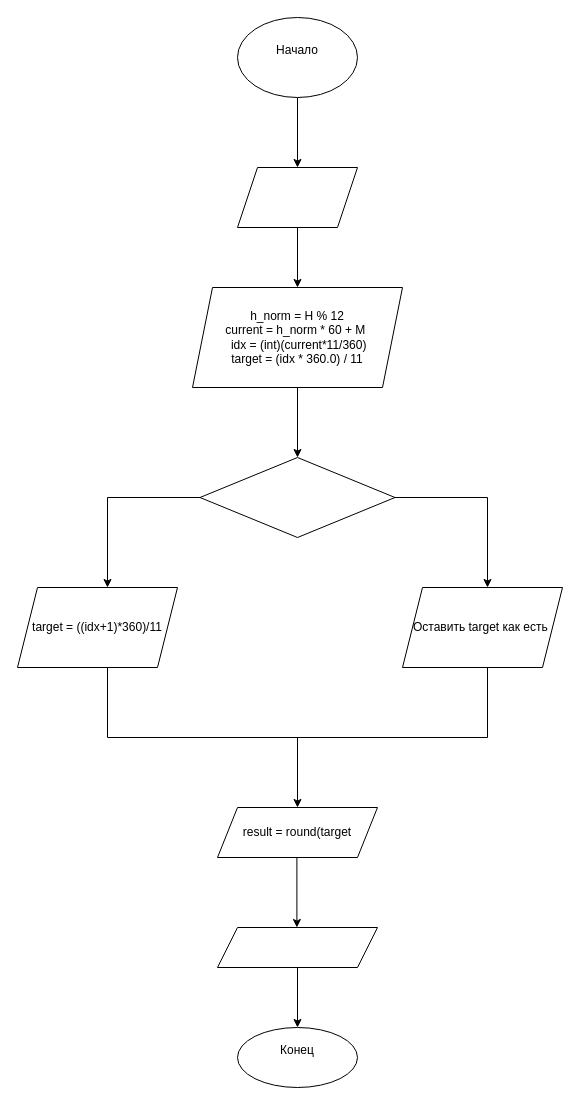
Image size: 580x1105. Some labels were removed from this diagram. The shapes that lost their labels are listed below. From the top down, each one's box as (x1, y1, x2, y2) in pixels, then its label:
(236, 166, 358, 228): Ввести H, M
(199, 456, 395, 538): target < current
(216, 926, 378, 968): Вывести: result
